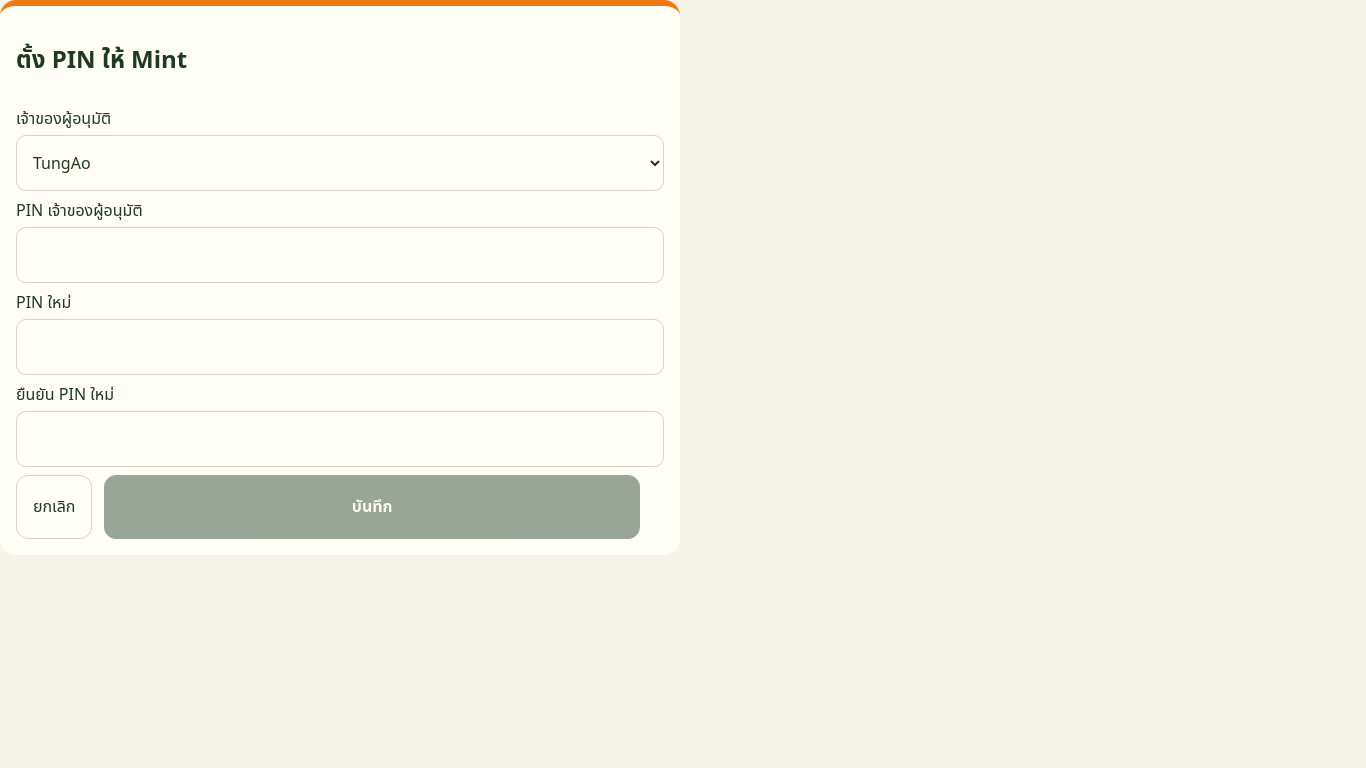
Test: StaffPinDialog (spec 04 §6.5) › clears the approver PIN when setStaffPin refuses it (M4, fix round 1)
In the field with test id "staff-pin-approver-pin": (340, 255) [16, 227, 664, 283], type "1111"
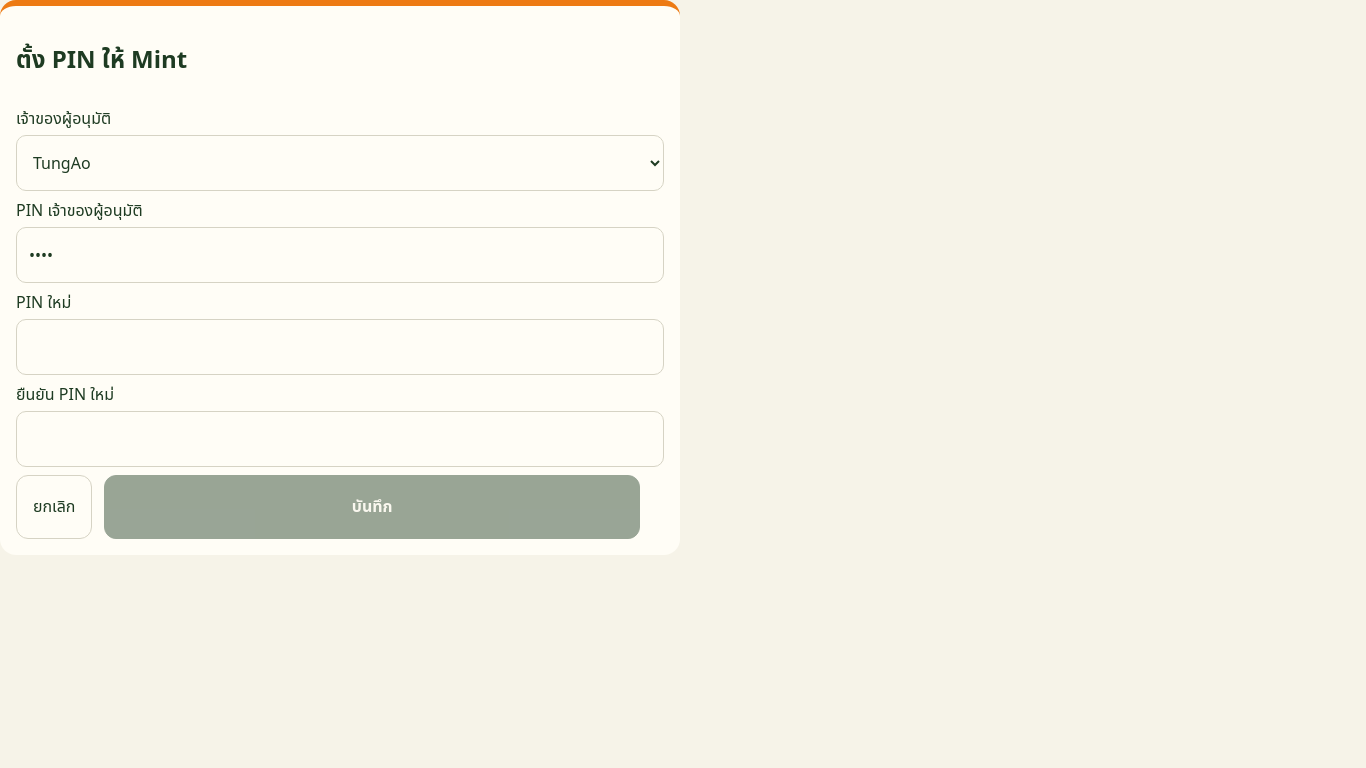
In the field with test id "staff-pin-new": (340, 347) [16, 319, 664, 375], type "2468"
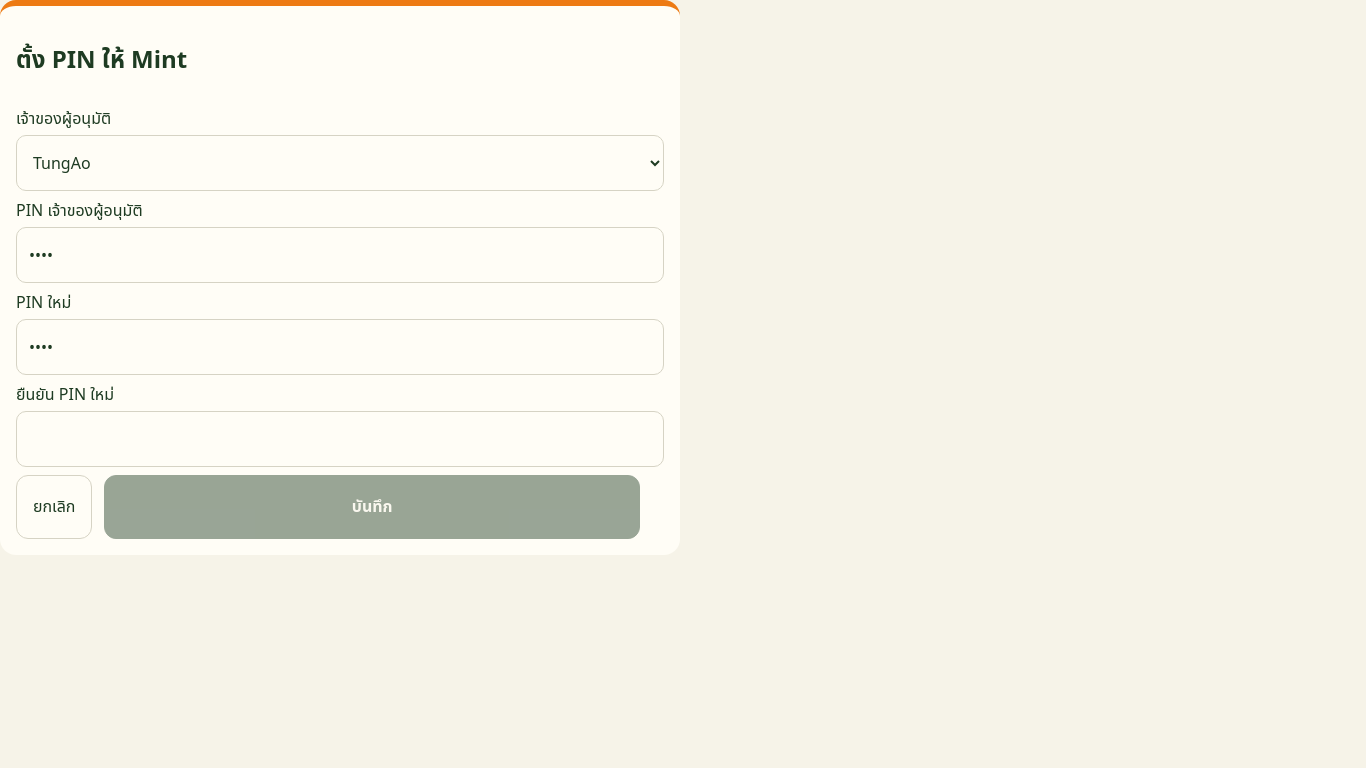
In the field with test id "staff-pin-new2": (340, 439) [16, 411, 664, 467], type "2468"
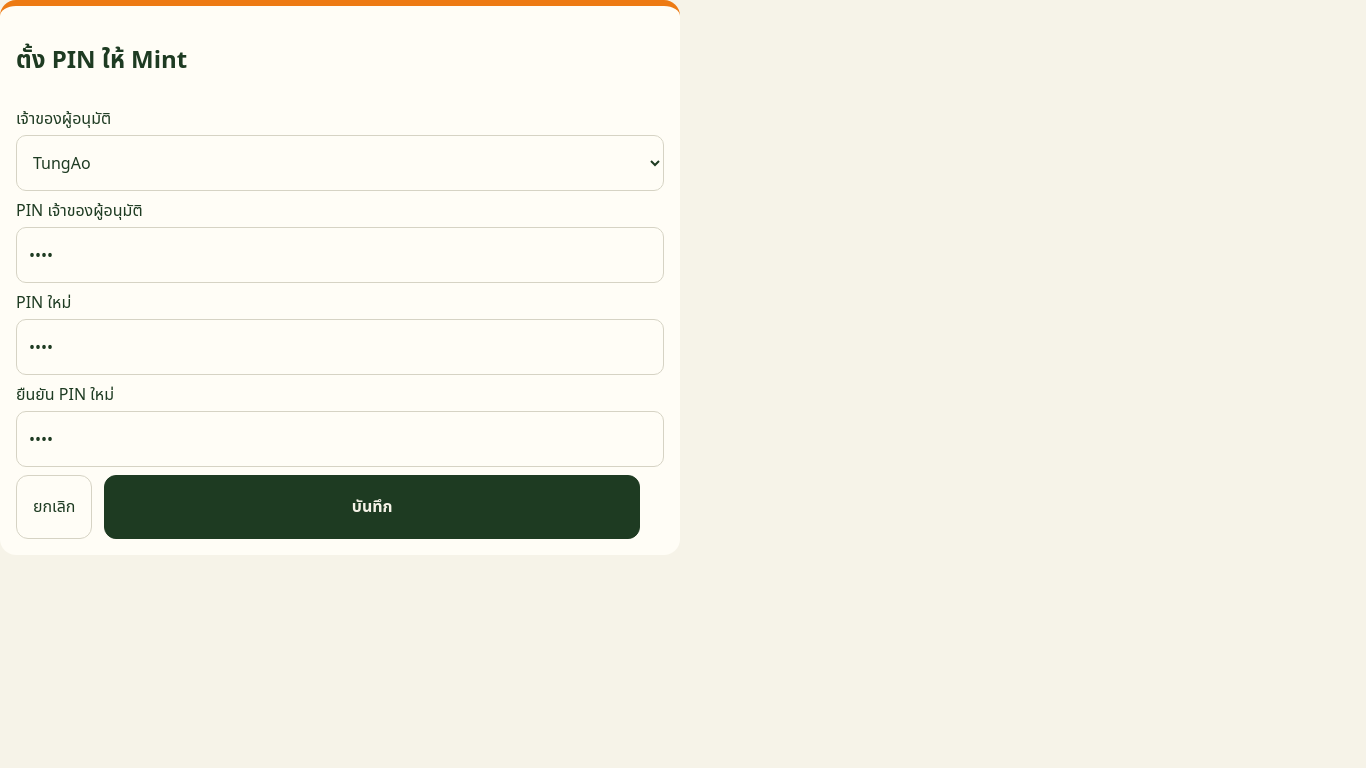
Click the button with test id "staff-pin-save": (372, 507) [104, 475, 640, 539]
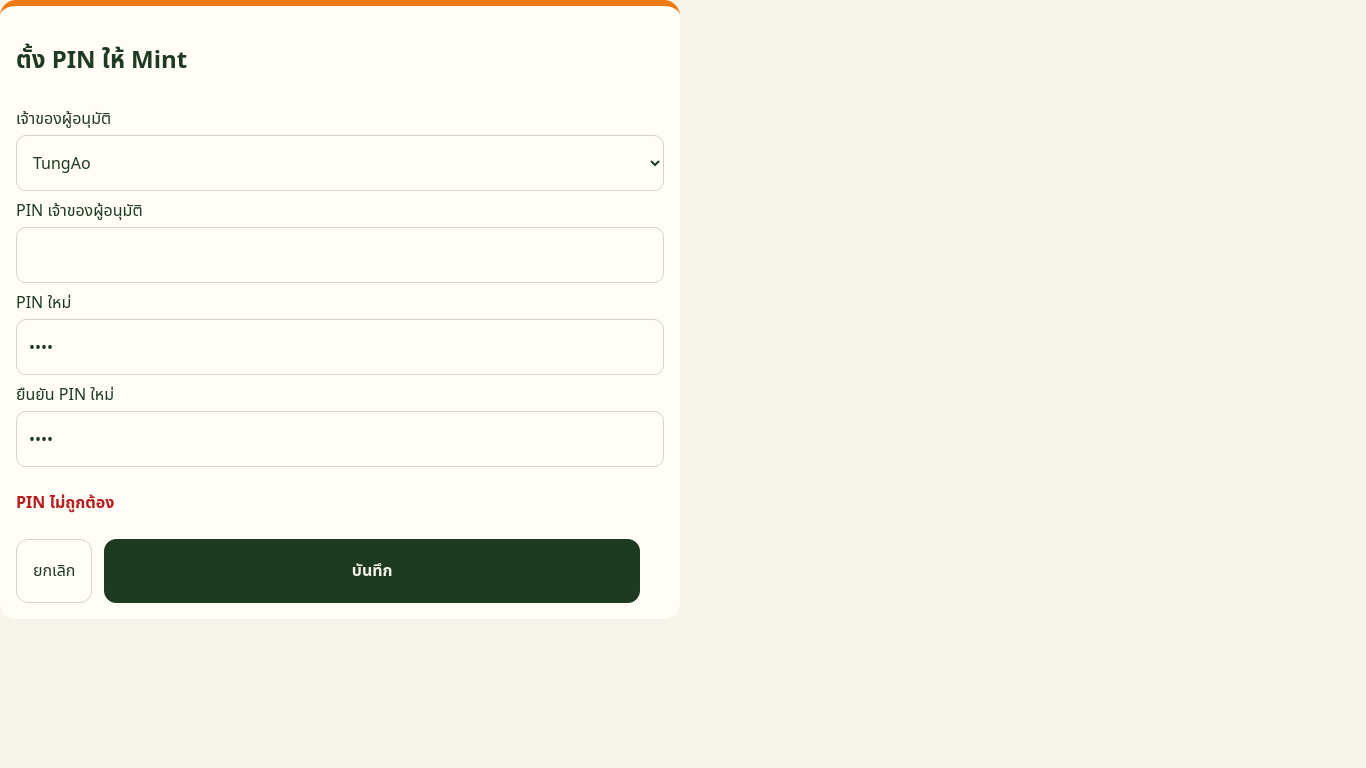
Expected: the message "PIN ไม่ถูกต้อง" is shown, [16, 491, 114, 513]
Expected: the field with test id "staff-pin-approver-pin" is empty, [16, 227, 664, 283]
